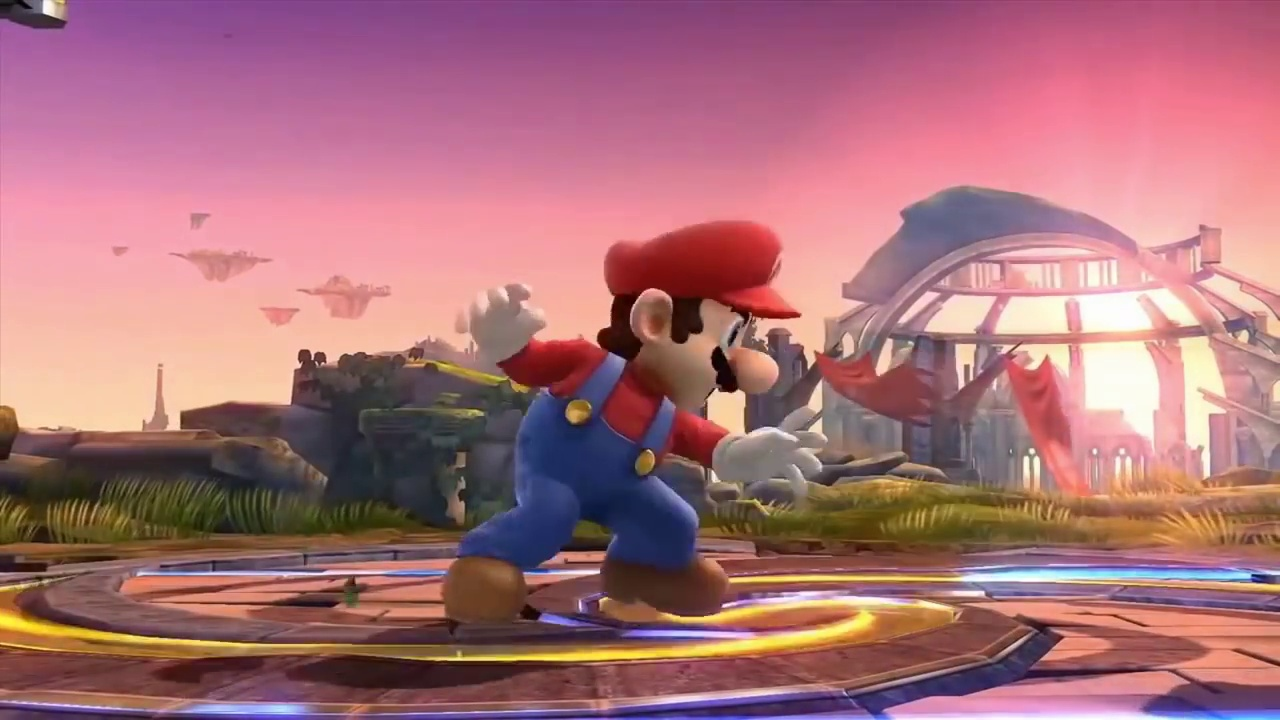Mario: (447, 221, 825, 611)
